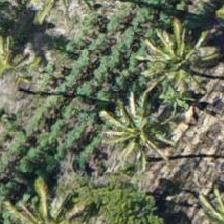coconut_tree: (93, 82, 183, 172), (134, 19, 223, 109), (0, 12, 57, 102)
